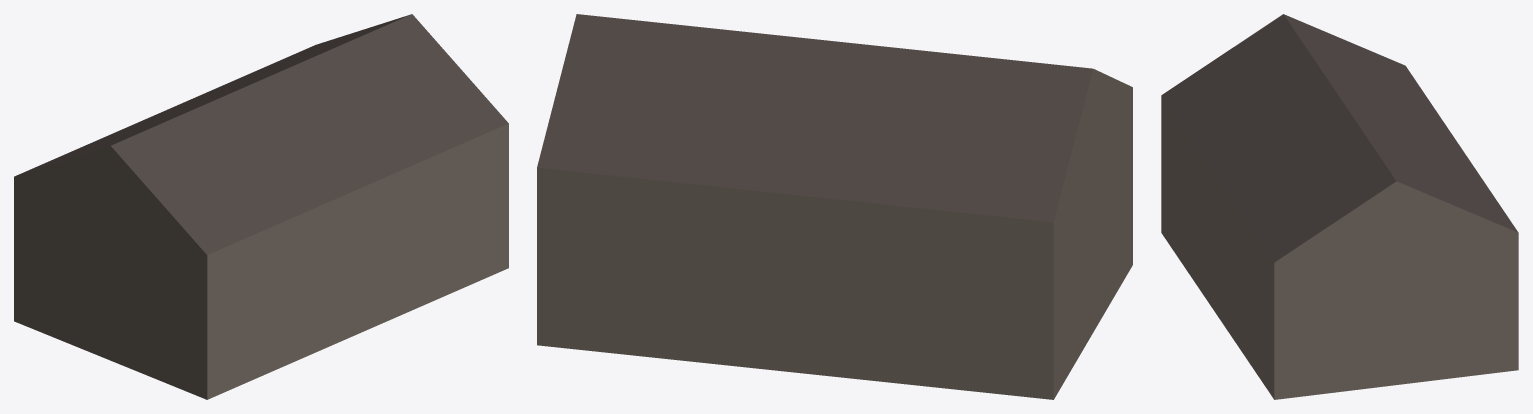
The picture shows the model from 3 angles, left to right: view 1: azimuth 30°, elevation 25°; view 2: azimuth 150°, elevation 25°; view 3: azimuth 270°, elevation 25°; orthographic projection. The views are drawn at different scales.
Parts seen in each view (by area): view 1: HP-w435452354; view 2: HP-w435452354; view 3: HP-w435452354.
Part boxes in pixels (x1,y1,x2,y2): HP-w435452354: (14, 14, 508, 399); HP-w435452354: (537, 14, 1132, 399); HP-w435452354: (1161, 14, 1518, 399).
Bounding box in the file's own units: 27.69 × 13.36 × 21.23.
